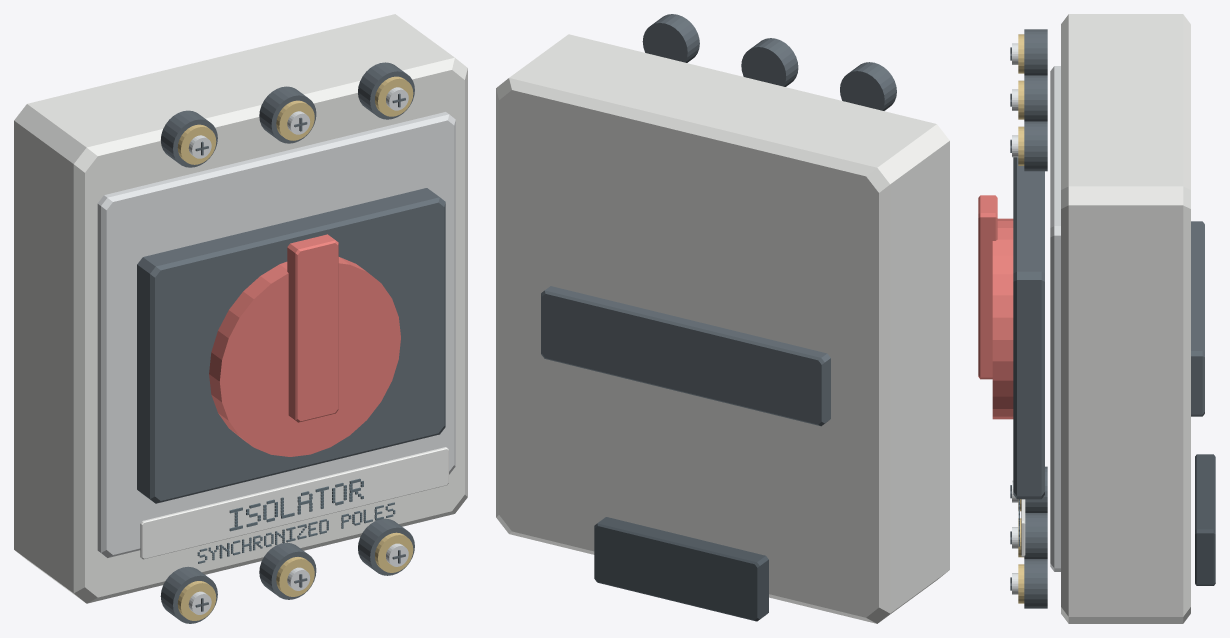
File: isolator3P.glb
3 views of the same model, side by side, from view 1: azimuth 30°, elevation 25°; view 2: azimuth 150°, elevation 25°; view 3: azimuth 270°, elevation 25° (orthographic). The views are drawn at different scales.
Parts seen in each view (by area): view 1: isolator3P-detailed; view 2: isolator3P-detailed; view 3: isolator3P-detailed.
Boxes of the visible parts, box(x1,y1,x2,y2) form: isolator3P-detailed: box(14, 14, 467, 623); isolator3P-detailed: box(496, 14, 949, 623); isolator3P-detailed: box(978, 14, 1215, 623).
Bounding box in the file's own units: 2.75 × 3.36 × 1.49.
